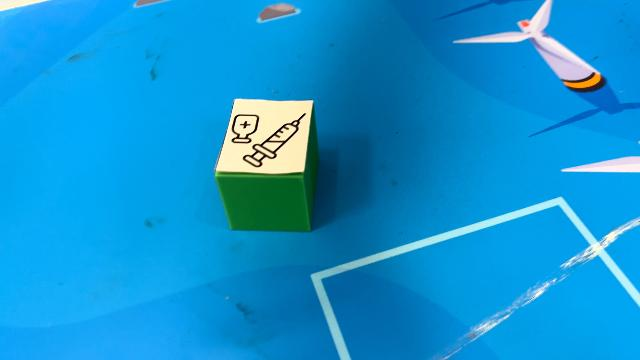syringe: (213, 98, 319, 232)
